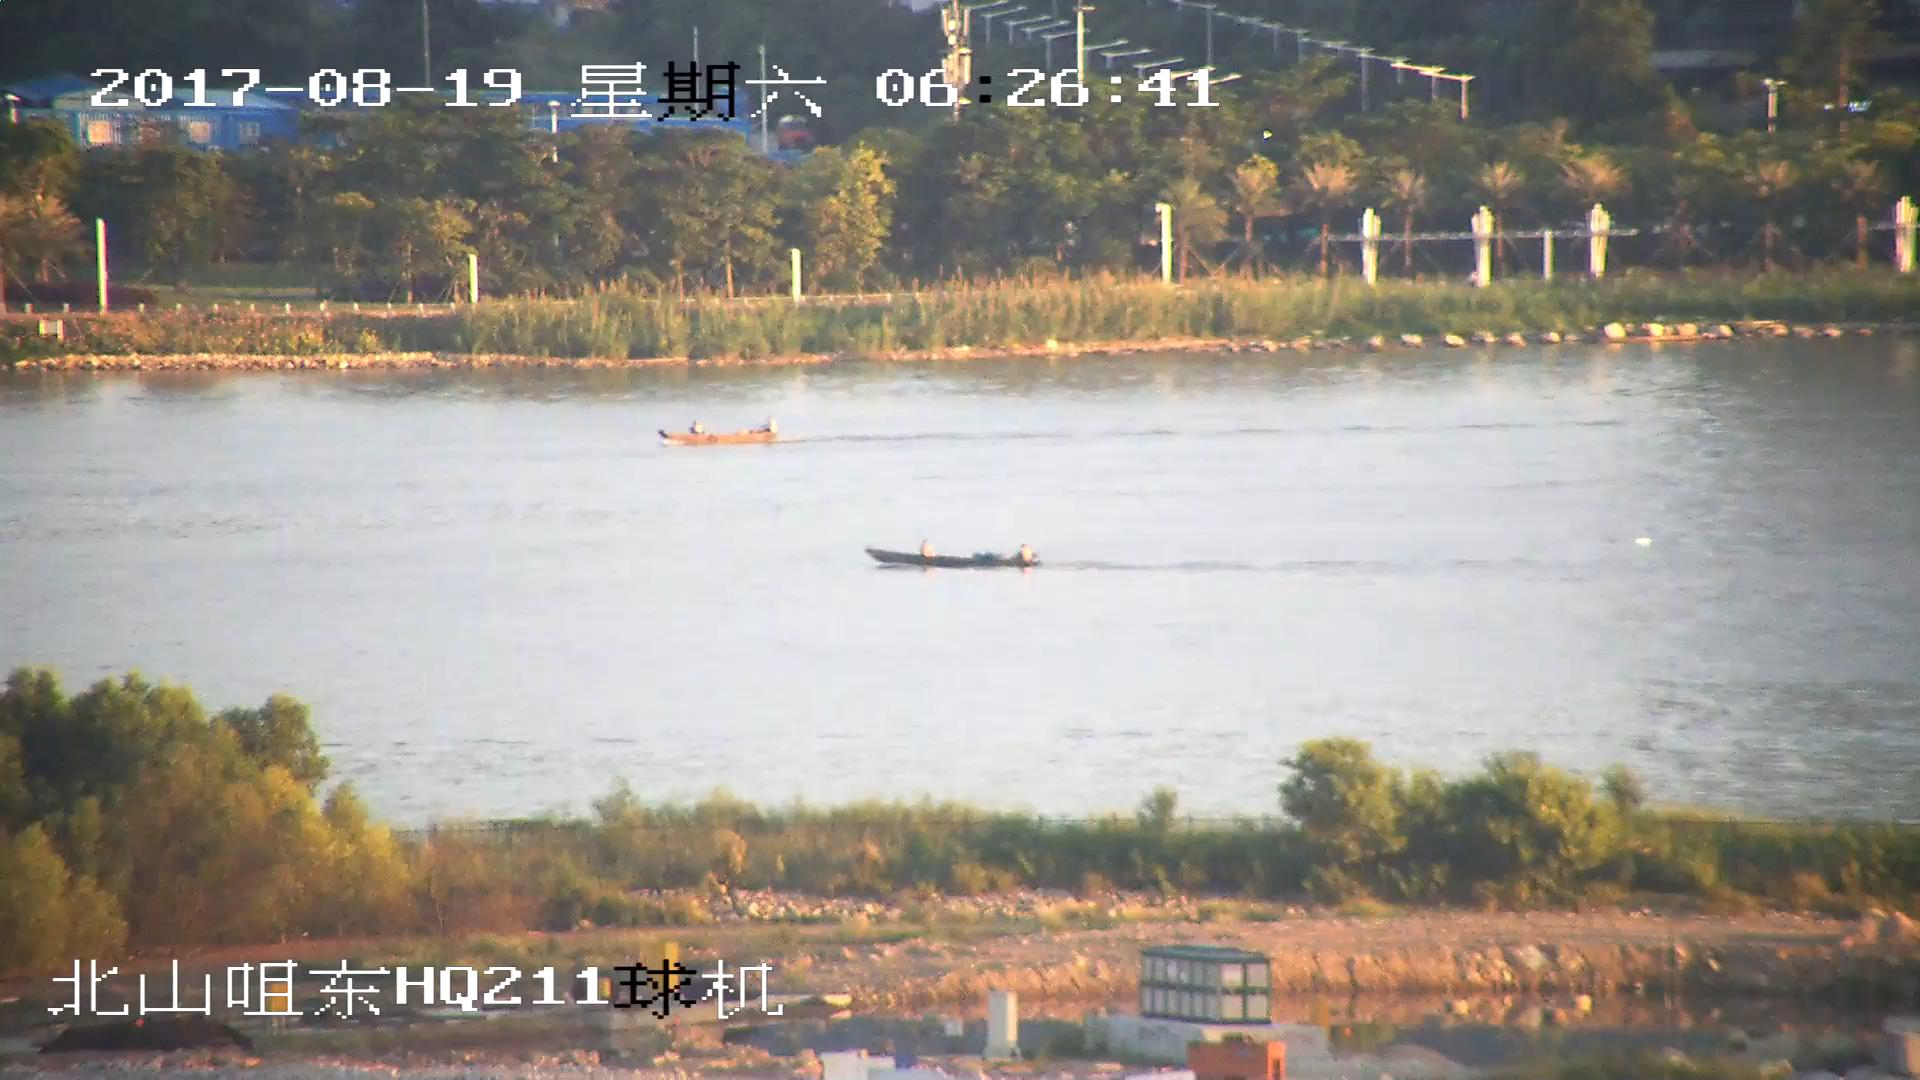fishing boat: (867, 542, 1034, 571), (657, 417, 781, 447)
